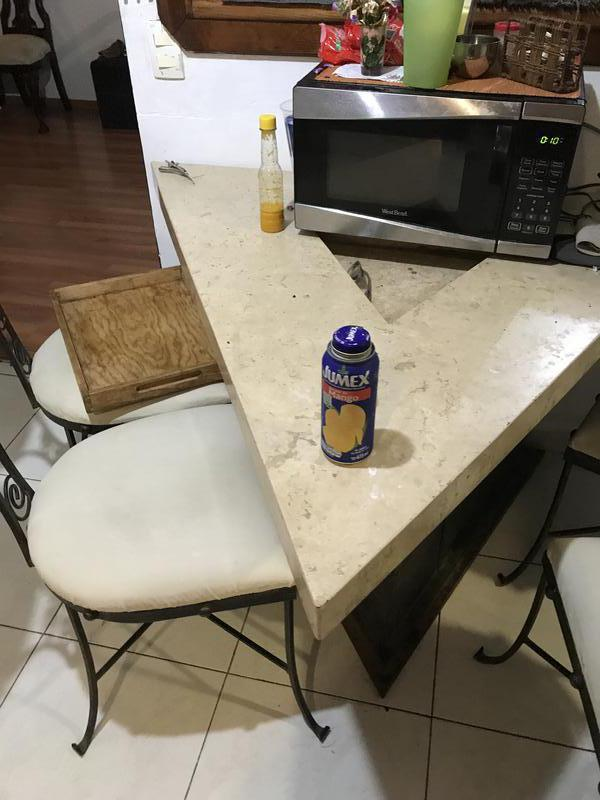jugo_jumex: (321, 325, 376, 467)
